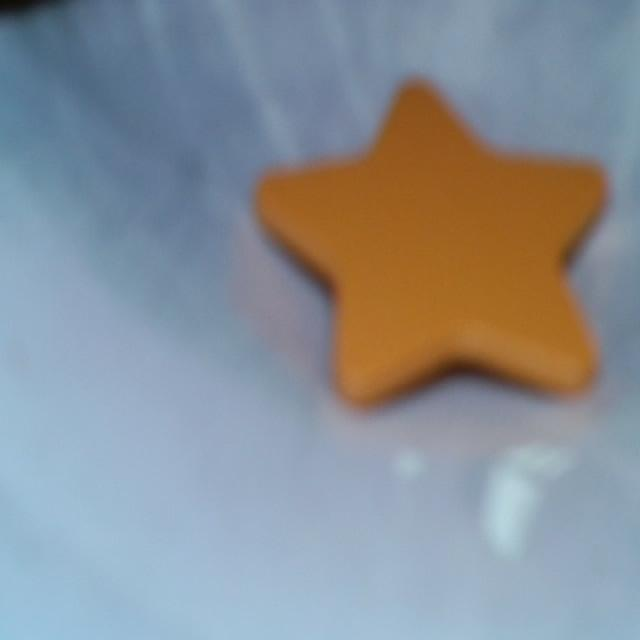star: (257, 83, 604, 404)
